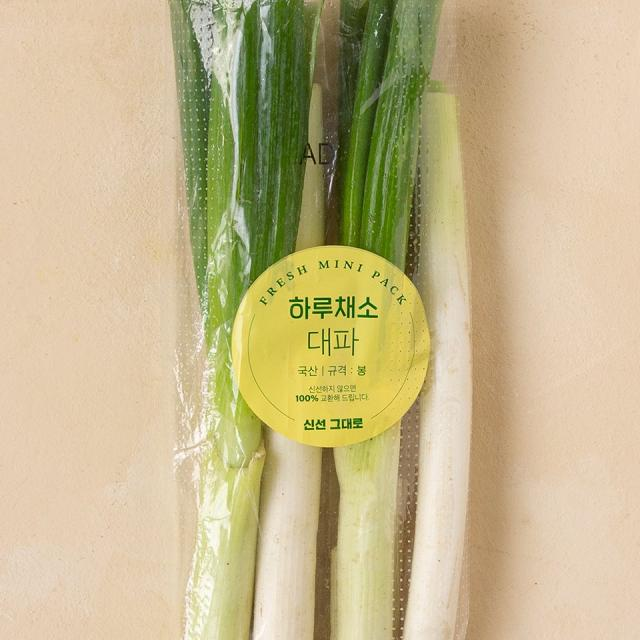greenonion: (169, 0, 455, 640)
